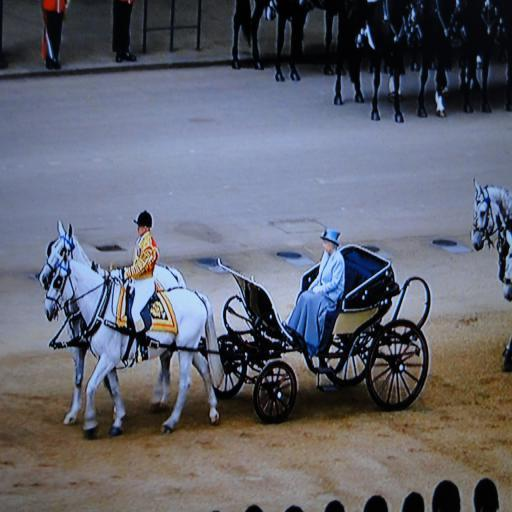horse: (230, 0, 511, 124), (44, 249, 225, 434), (34, 220, 188, 426), (470, 179, 512, 355), (468, 178, 512, 252), (498, 216, 512, 301)
